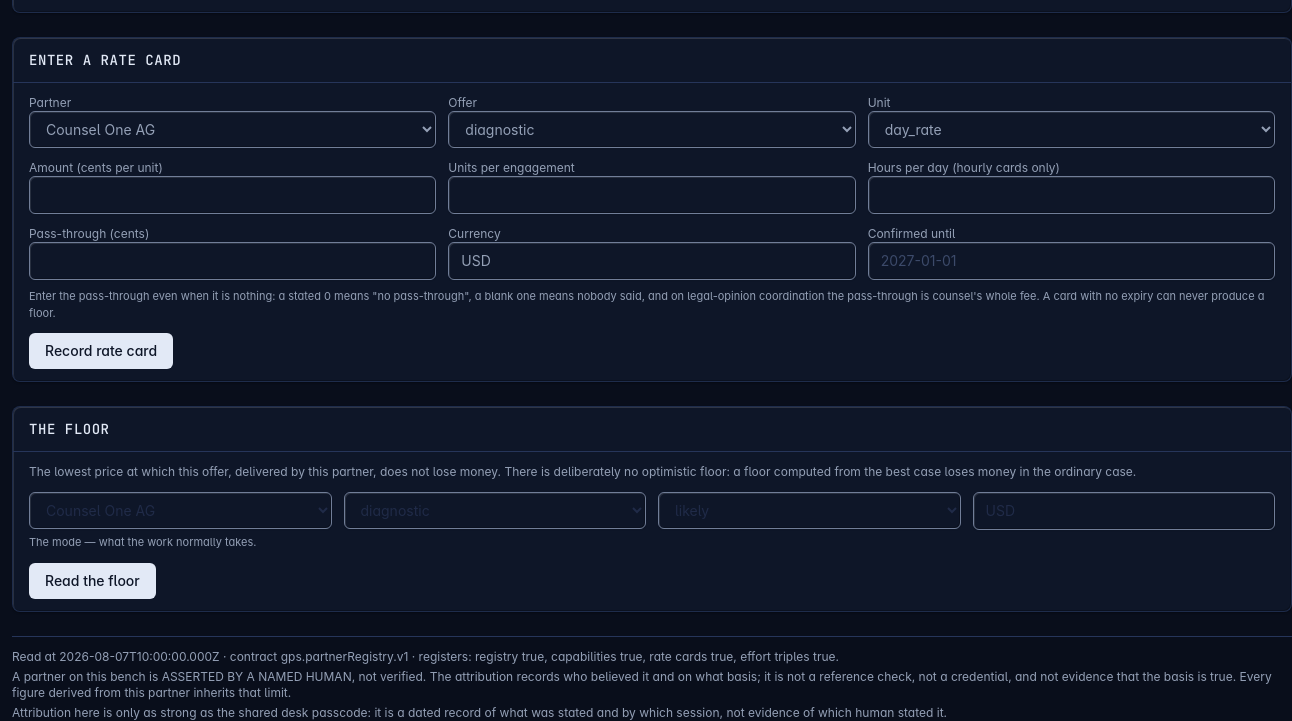
it: the floor › renders the figure with its environment, its attribution and what it excludes
(page scrolled)
Click the button "Read the floor" at point(92, 581), box left=29, top=563, right=156, bottom=599
(page scrolled)
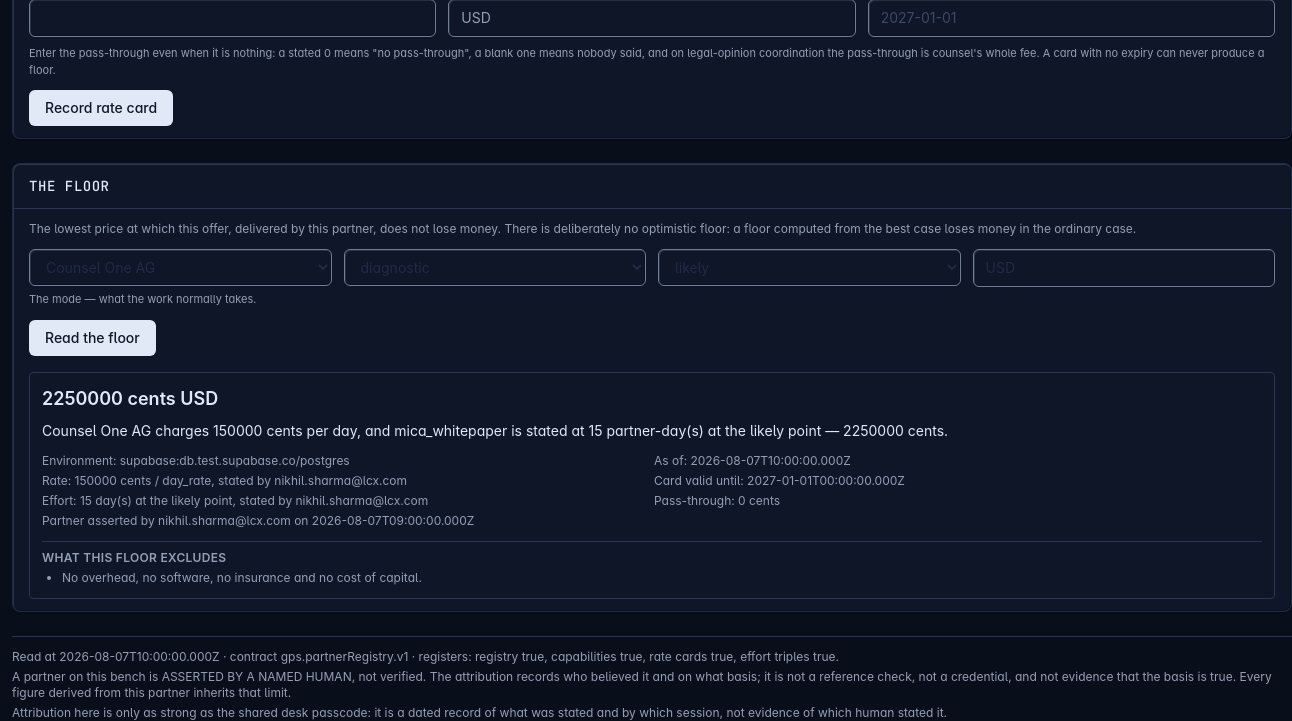
Now the element with test id "floor-figure" shows "2250000 cents USD", box left=29, top=372, right=1275, bottom=599
Now the element with test id "floor-frame" shows "supabase:db.test.supabase.co/postgres", box left=120, top=453, right=350, bottom=468
Now the element with test id "floor-frame" shows "nikhil.sharma@lcx.com", box left=274, top=473, right=407, bottom=488
